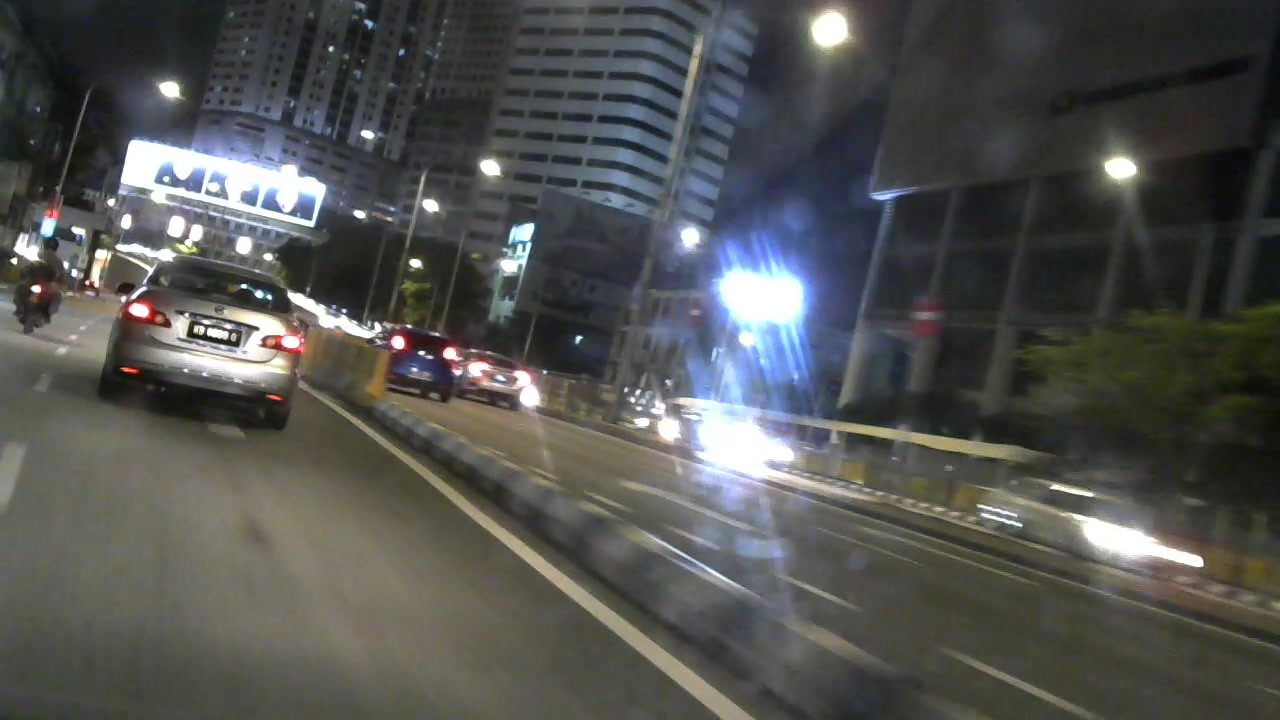Car: (100, 247, 307, 431), (972, 469, 1155, 571), (363, 320, 462, 404), (455, 346, 531, 411)
